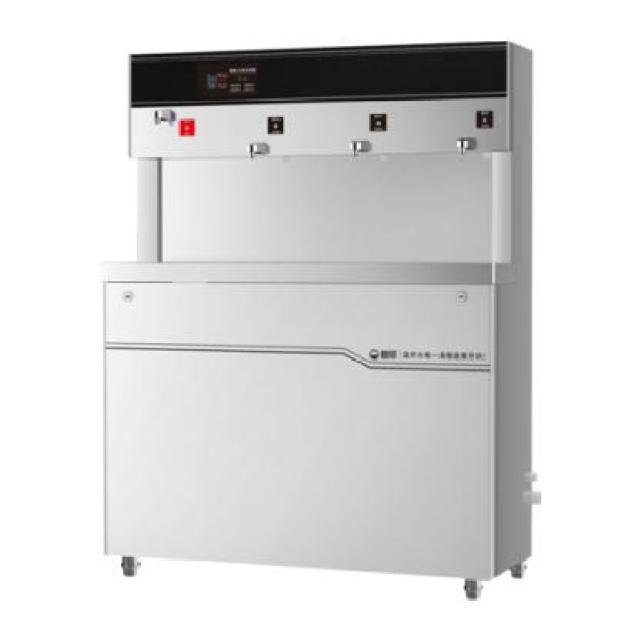cooler: (99, 37, 542, 603)
